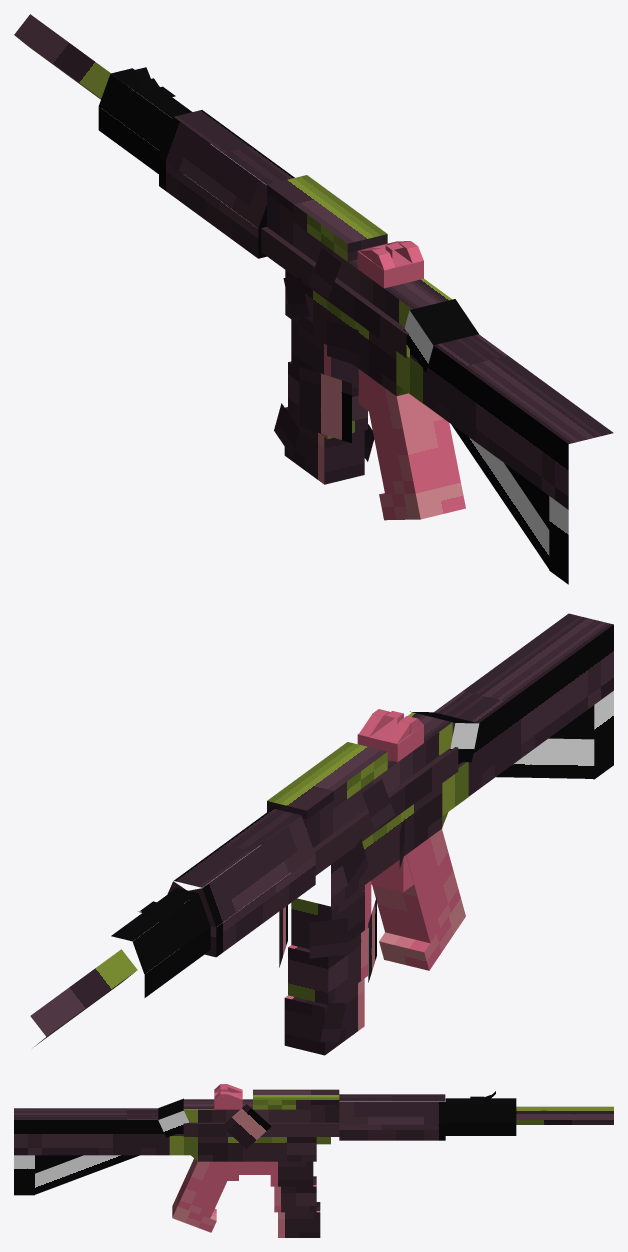
File: jeg_blossom_rifle.glb
3 renders of one model, top to bottom at view 1: azimuth 30°, elevation 25°; view 2: azimuth 150°, elevation 25°; view 3: azimuth 270°, elevation 25°, orthographic. The views are drawn at different scales.
Parts seen in each view (by area): view 1: Gun; view 2: Gun; view 3: Gun.
Part boxes in pixels (left/top/right/bottom): Gun: left=14, top=14, right=613, bottom=584; Gun: left=30, top=613, right=613, bottom=1055; Gun: left=14, top=1084, right=613, bottom=1237.
Size of the model in its own units: 0.0759 by 0.2816 by 1.06.
Materials: 1 (1 with a texture image).
